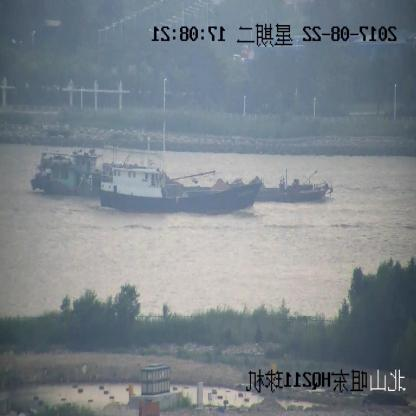Fishing Boat: (102, 144, 261, 213)
